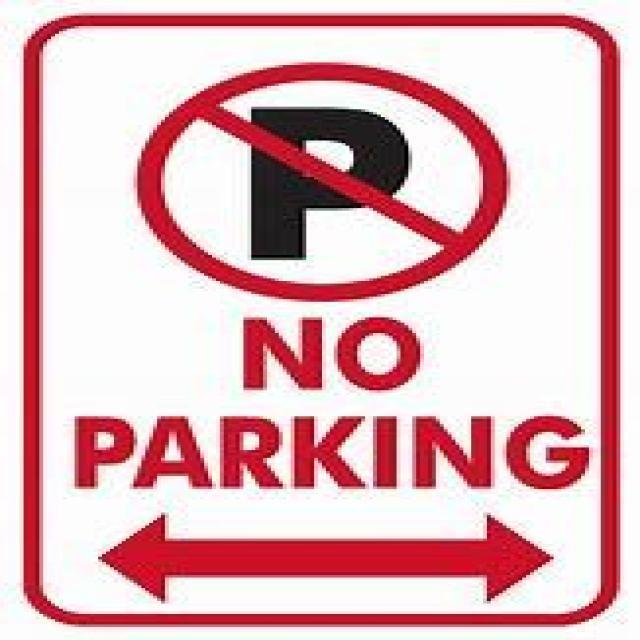no parking: (129, 60, 517, 304)
